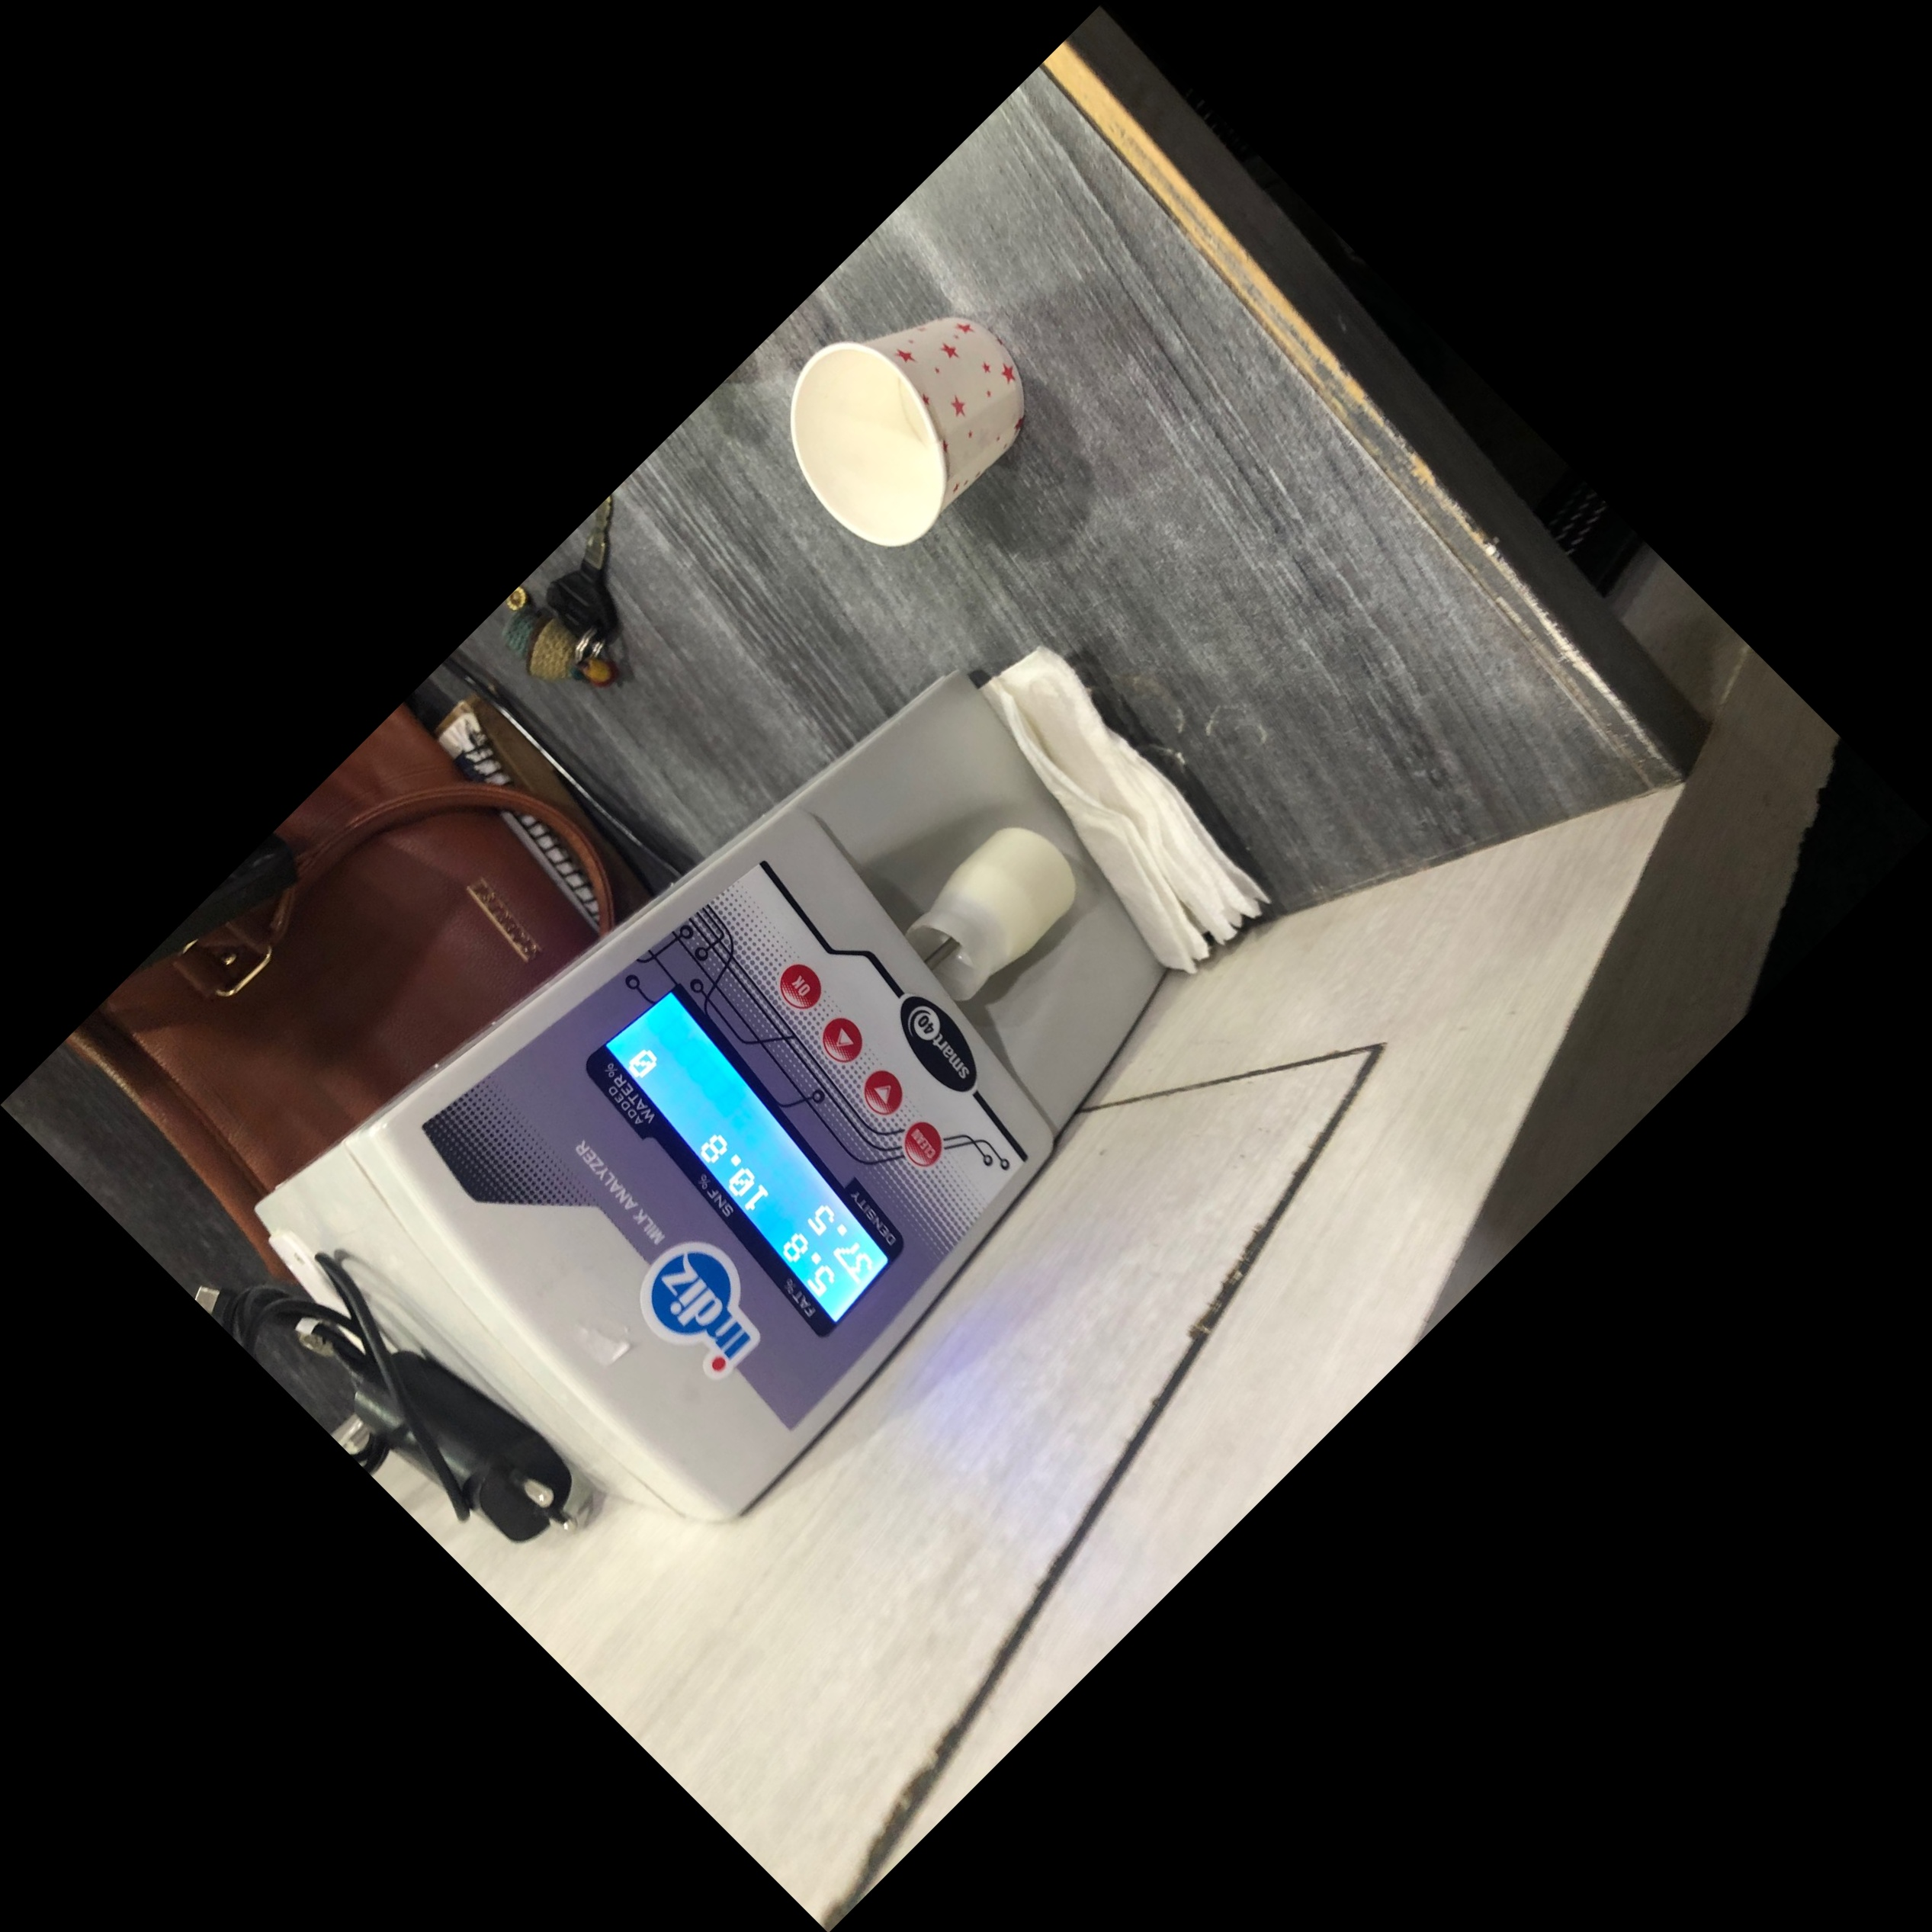lcd: (589, 971, 915, 1378)
